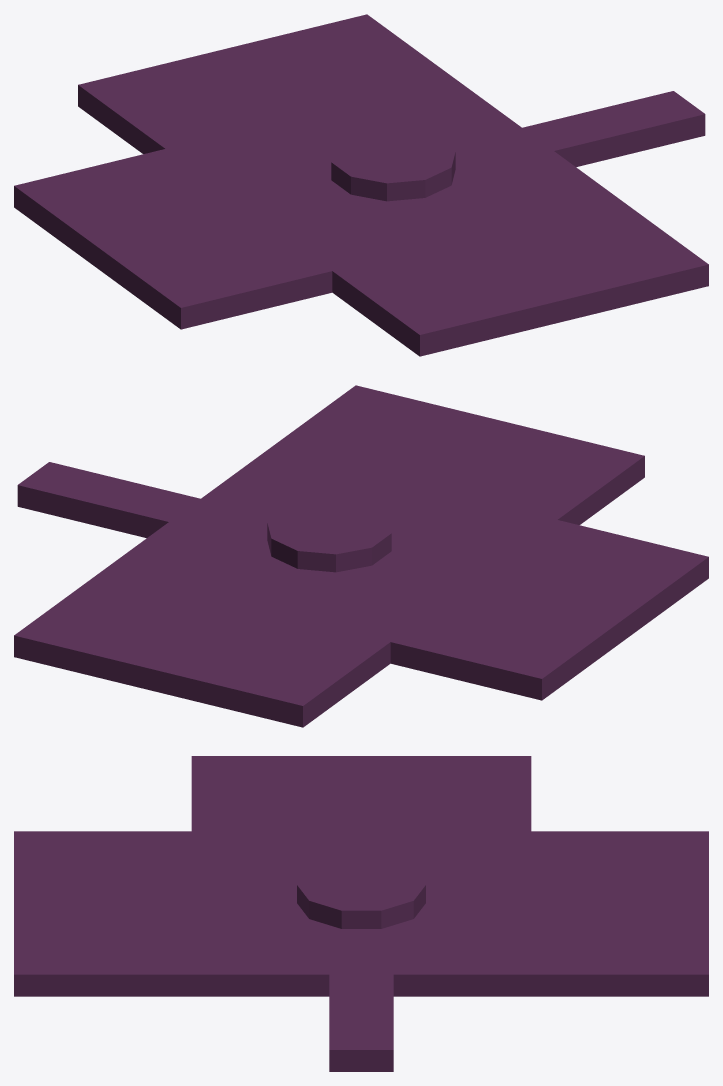
The model's file is ceiling-fan.obj.
3 renders of one model, top to bottom at view 1: azimuth 30°, elevation 25°; view 2: azimuth 150°, elevation 25°; view 3: azimuth 270°, elevation 25°, orthographic.
Parts seen in each view (by area): view 1: soft-blade-2, soft-blade-3, soft-blade-4, soft-blade-1, ceiling-fan-hub; view 2: soft-blade-4, soft-blade-3, soft-blade-2, soft-blade-1, ceiling-fan-hub; view 3: soft-blade-3, soft-blade-2, soft-blade-4, soft-blade-1, ceiling-fan-hub.
Part boxes in pixels (left/top/right/bottom): soft-blade-2: left=253, top=151, right=708, bottom=356; soft-blade-3: left=14, top=115, right=468, bottom=329; soft-blade-4: left=78, top=14, right=531, bottom=206; soft-blade-1: left=449, top=91, right=705, bottom=175; ceiling-fan-hub: left=331, top=130, right=455, bottom=201; soft-blade-4: left=14, top=522, right=463, bottom=727; soft-blade-3: left=261, top=486, right=708, bottom=700; soft-blade-2: left=201, top=385, right=644, bottom=577; soft-blade-1: left=17, top=462, right=273, bottom=546; ceiling-fan-hub: left=267, top=501, right=391, bottom=572; soft-blade-3: left=191, top=756, right=531, bottom=899; soft-blade-2: left=14, top=831, right=353, bottom=996; soft-blade-4: left=388, top=831, right=708, bottom=996; soft-blade-1: left=329, top=925, right=393, bottom=1071; ceiling-fan-hub: left=297, top=858, right=425, bottom=928.
Bounding box in the file's own units: 1.72 × 0.16 × 1.72.
